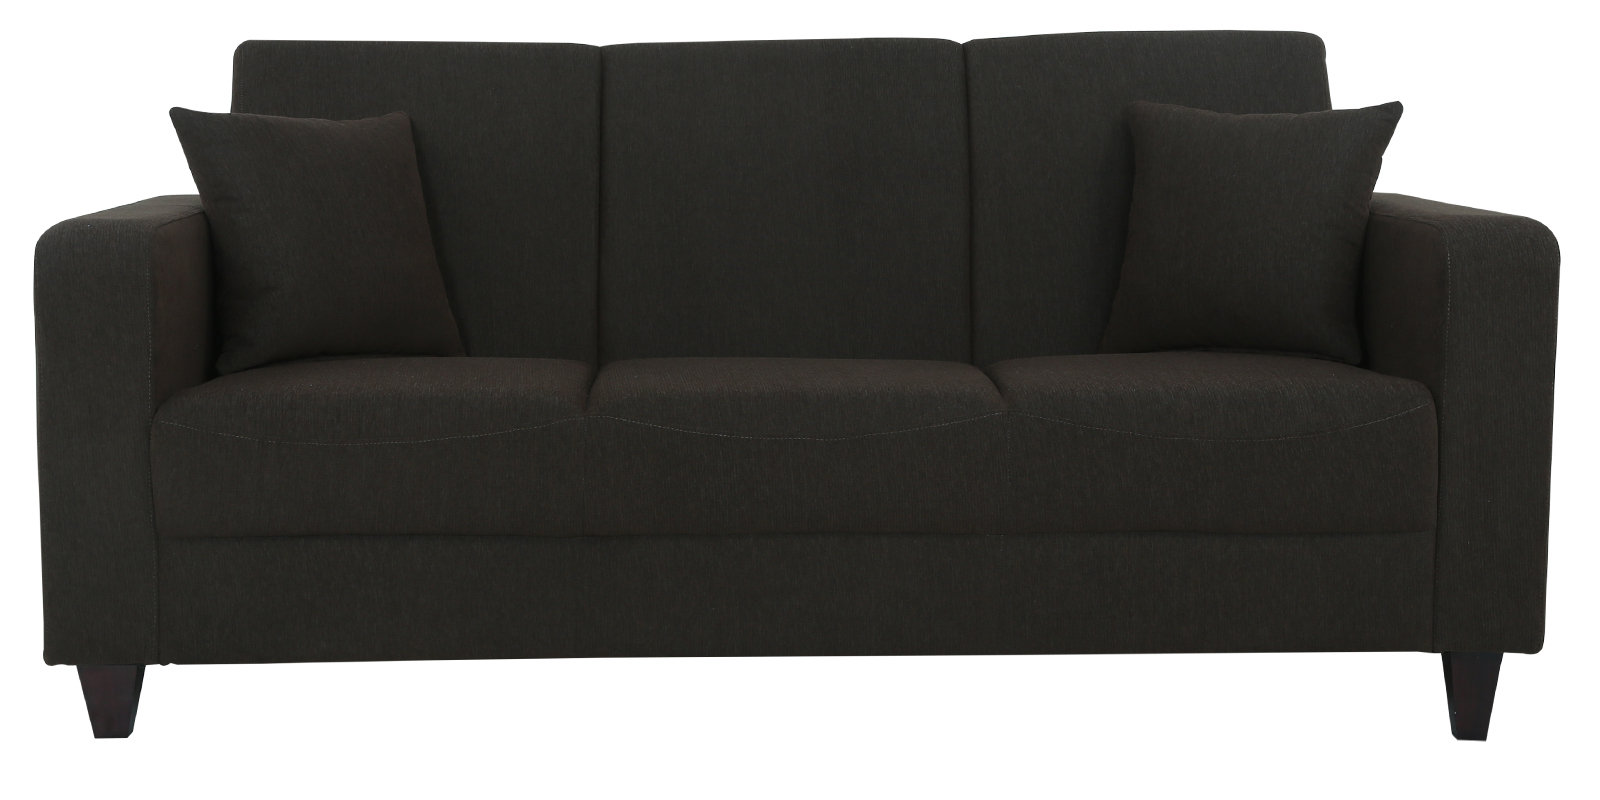Alba Three Seater Sofa in Chestnut Brown Colour by CasaCraft: (28, 31, 1566, 743)
